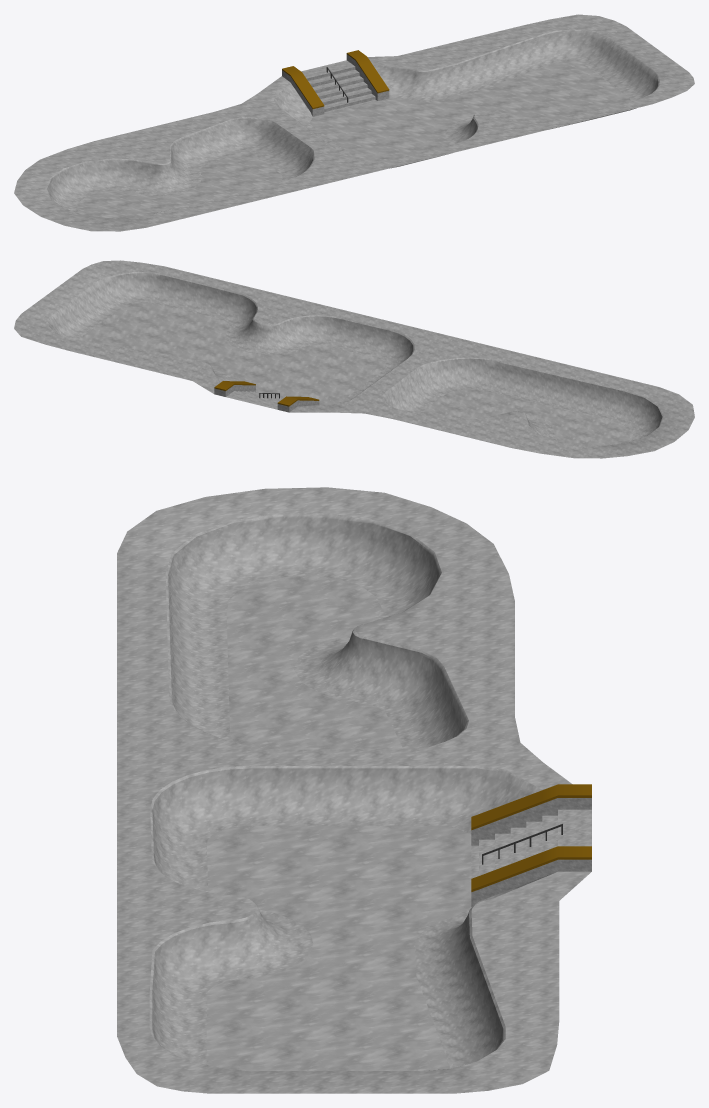
Rendered from BigBowl.fbx.
3 renders of one model, top to bottom at view 1: azimuth 30°, elevation 25°; view 2: azimuth 150°, elevation 25°; view 3: azimuth 270°, elevation 25°, orthographic. The views are drawn at different scales.
Parts seen in each view (by area): view 1: Bowl_V3; view 2: Bowl_V3; view 3: Bowl_V3.
Part boxes in pixels (x1,y1,x2,y2): Bowl_V3: (14,14,694,231); Bowl_V3: (14,260,694,458); Bowl_V3: (117,487,591,1093).
Size of the model in its own units: 5457 by 219 by 1807.
